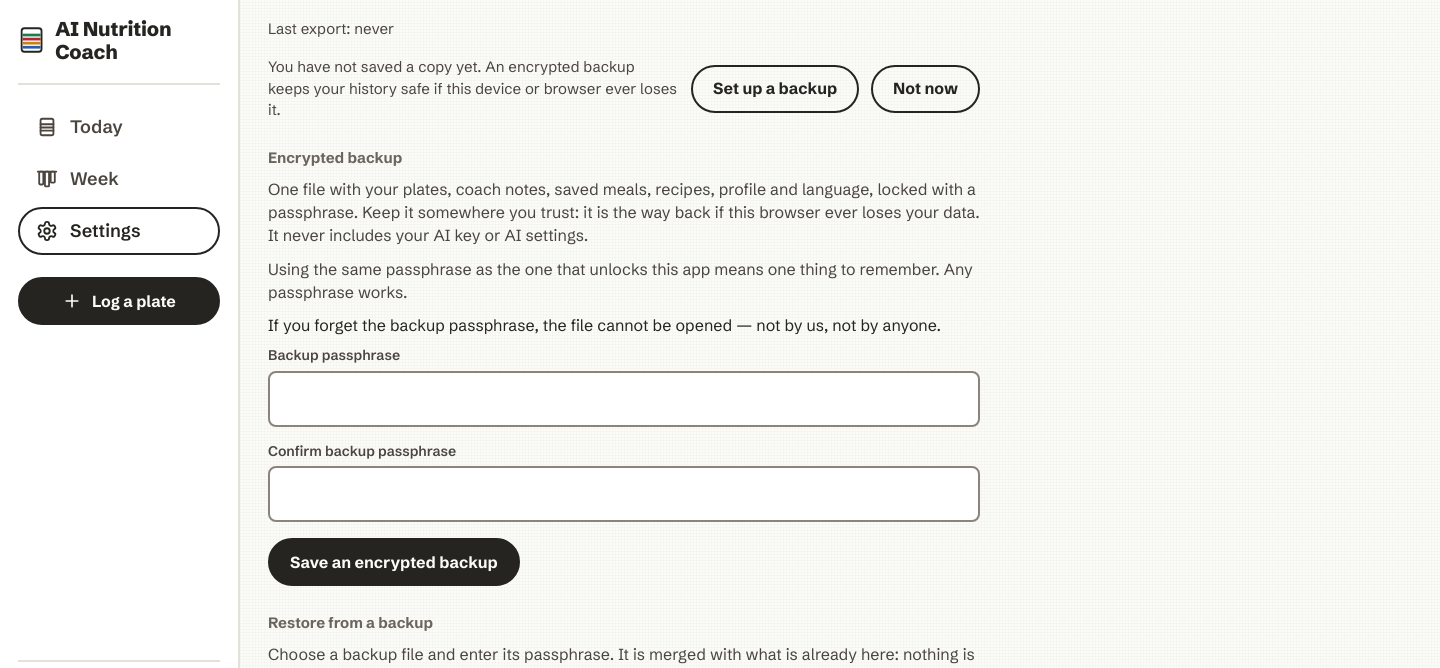
Scenario: Your data: save an encrypted backup › writes ai-nutrition-coach-YYYY-MM-DD.ancvault, clears the fields and says where it went
(page scrolled)
Clear the password field labelled "Backup passphrase": (624, 399) [270,373,978,425]
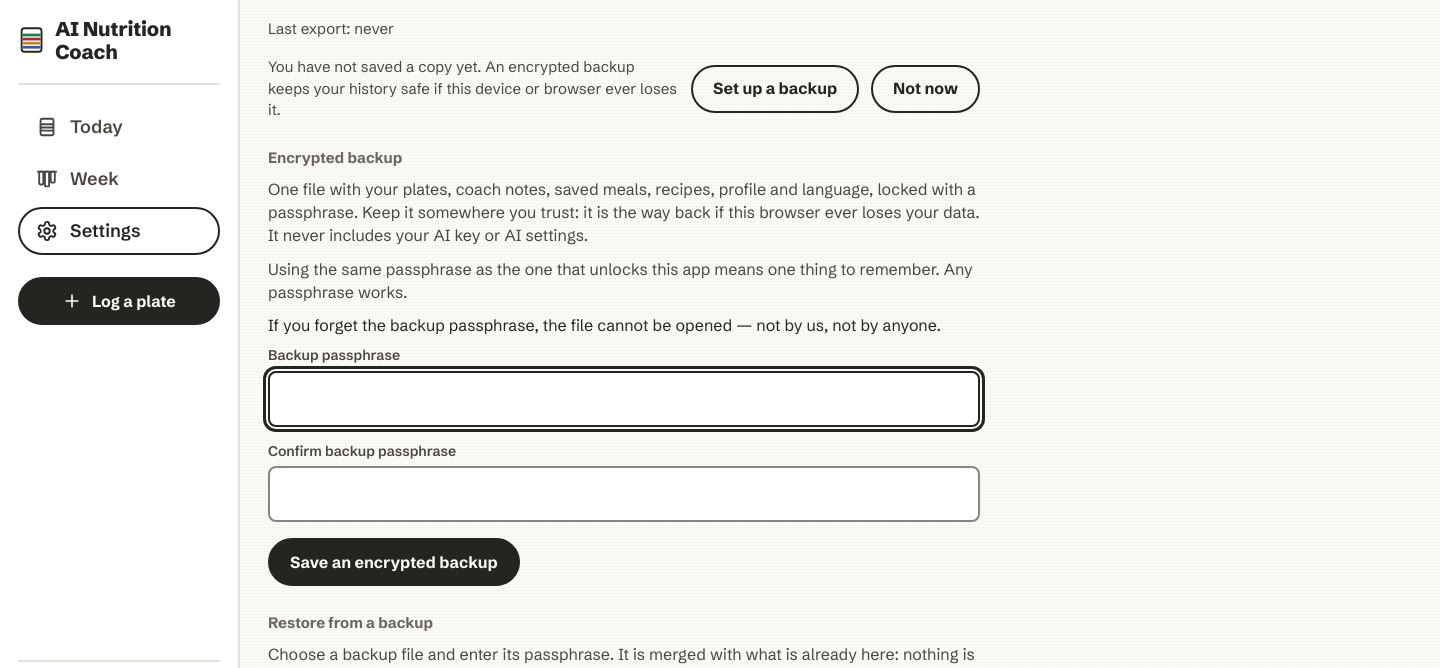
Clear the password field labelled "Confirm backup passphrase": (624, 494) [270,468,978,520]
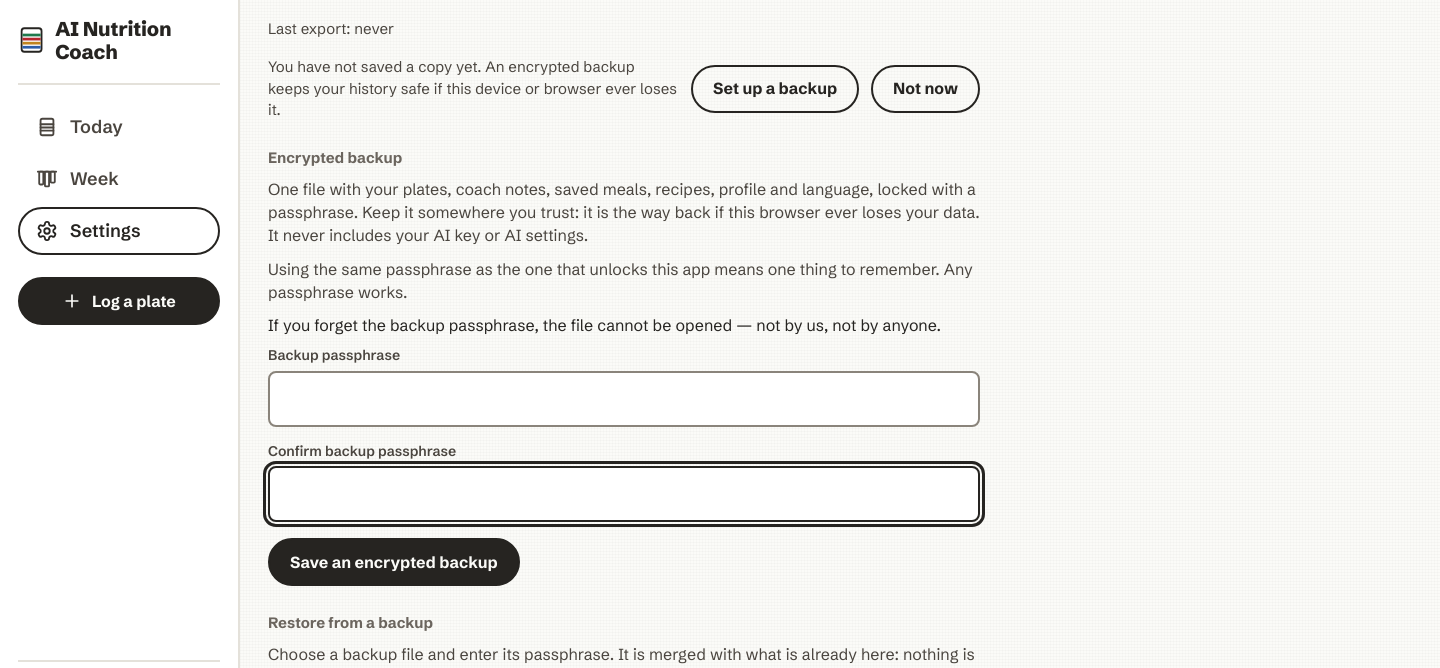
In the password field labelled "Backup passphrase": (624, 399) [270,373,978,425], type "a backup passphrase"
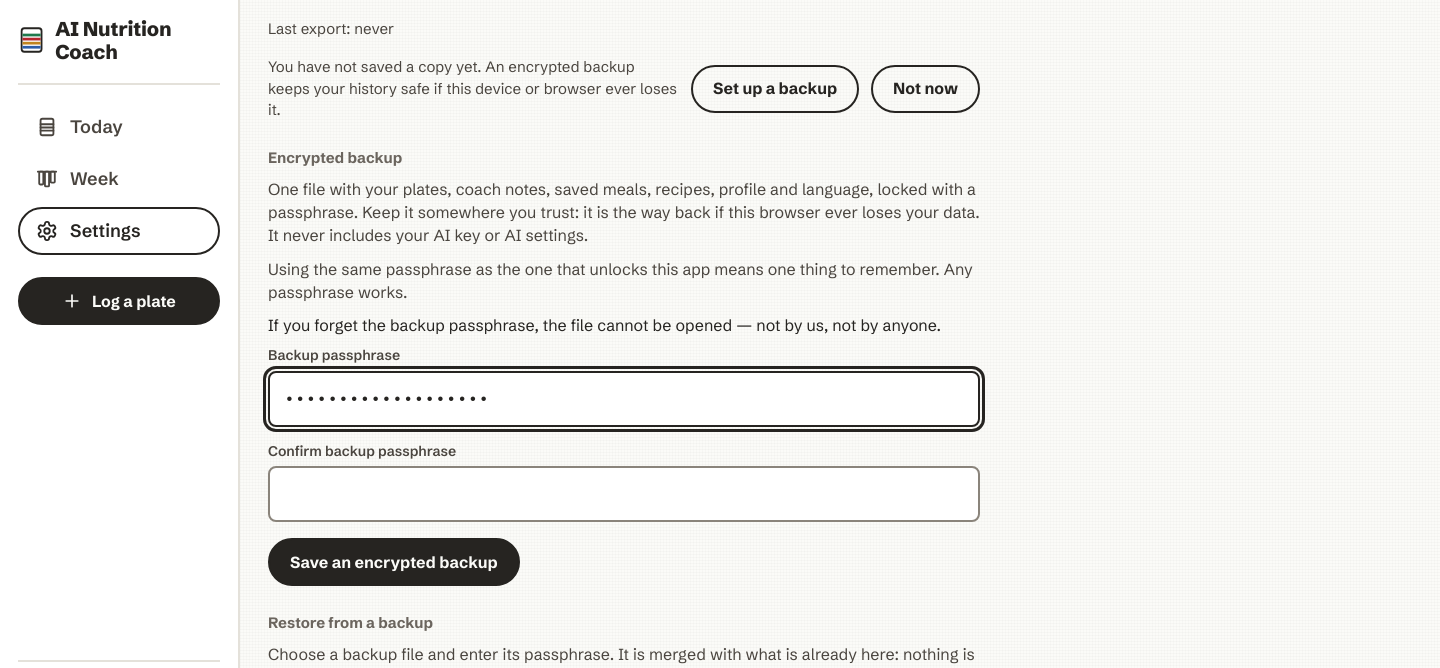
In the password field labelled "Confirm backup passphrase": (624, 494) [270,468,978,520], type "a backup passphrase"
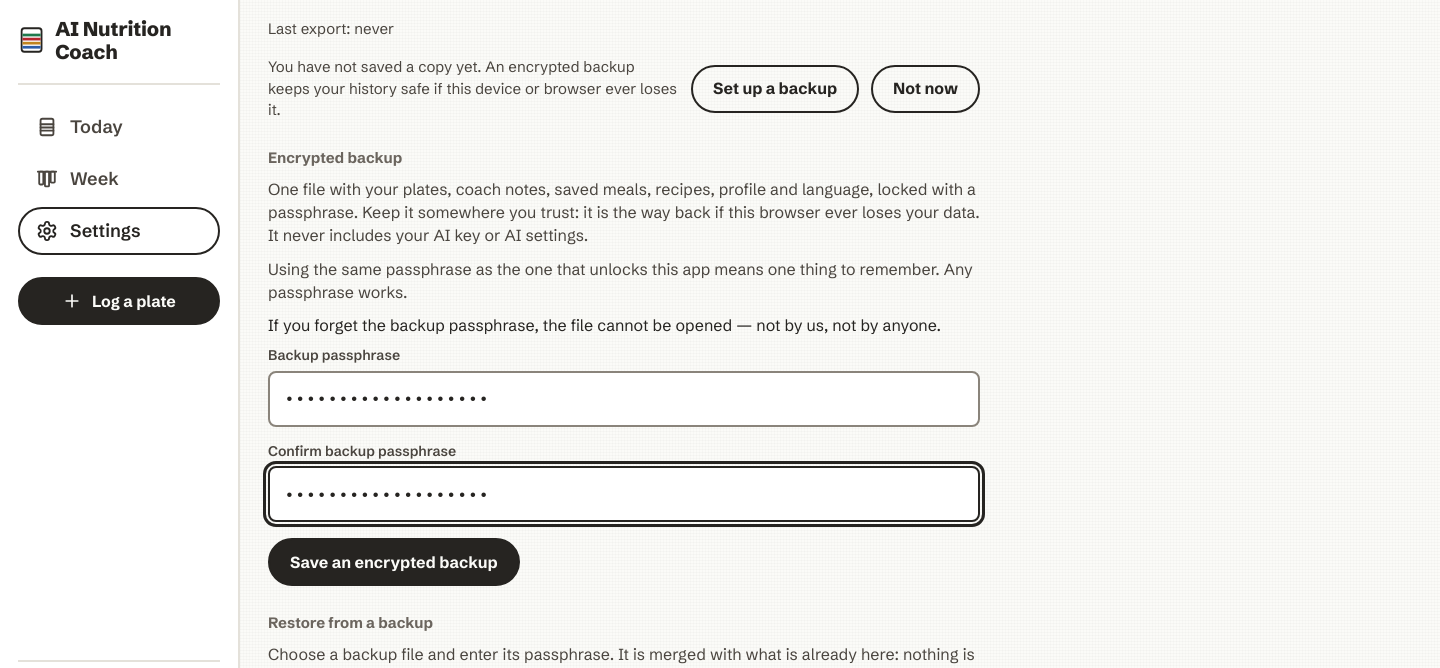
Click the button "Save an encrypted backup": (394, 562) [268,538,520,586]
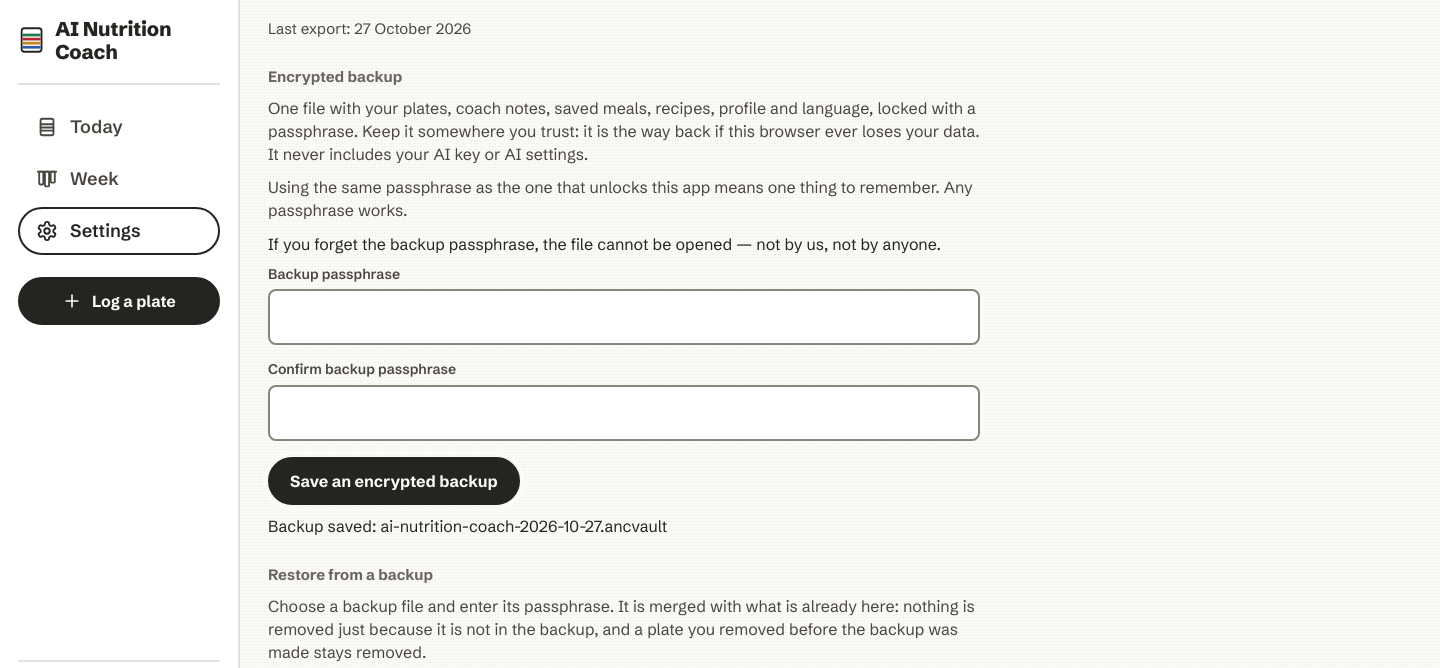
Result: the text "Last export: 27 October 2026" is shown at [268,19,471,38]
